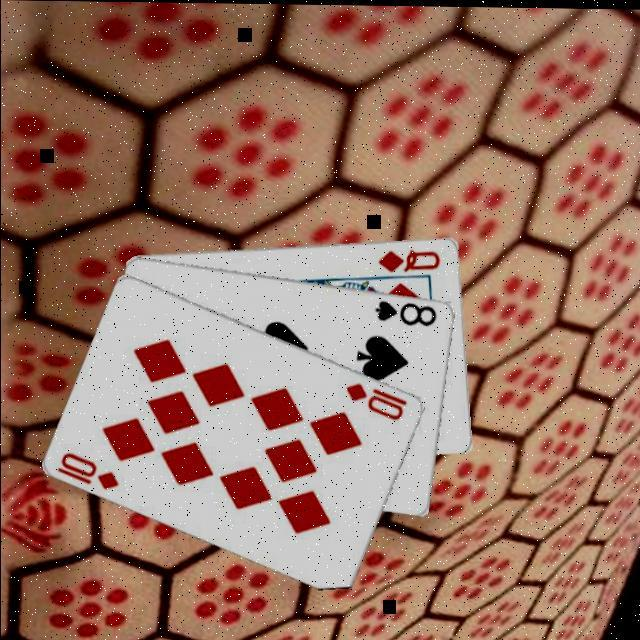10D: (344, 376, 412, 422), (54, 448, 124, 492)
8S: (372, 294, 440, 326)
QD: (376, 243, 444, 274)
